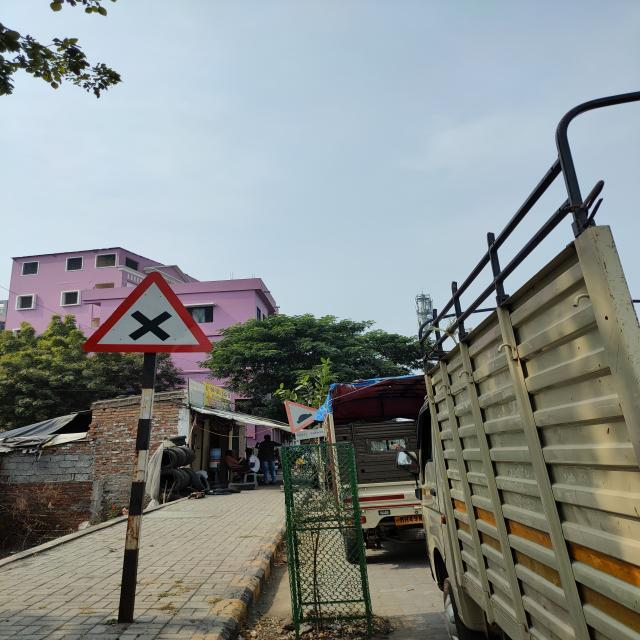cross road: (81, 272, 216, 359)
